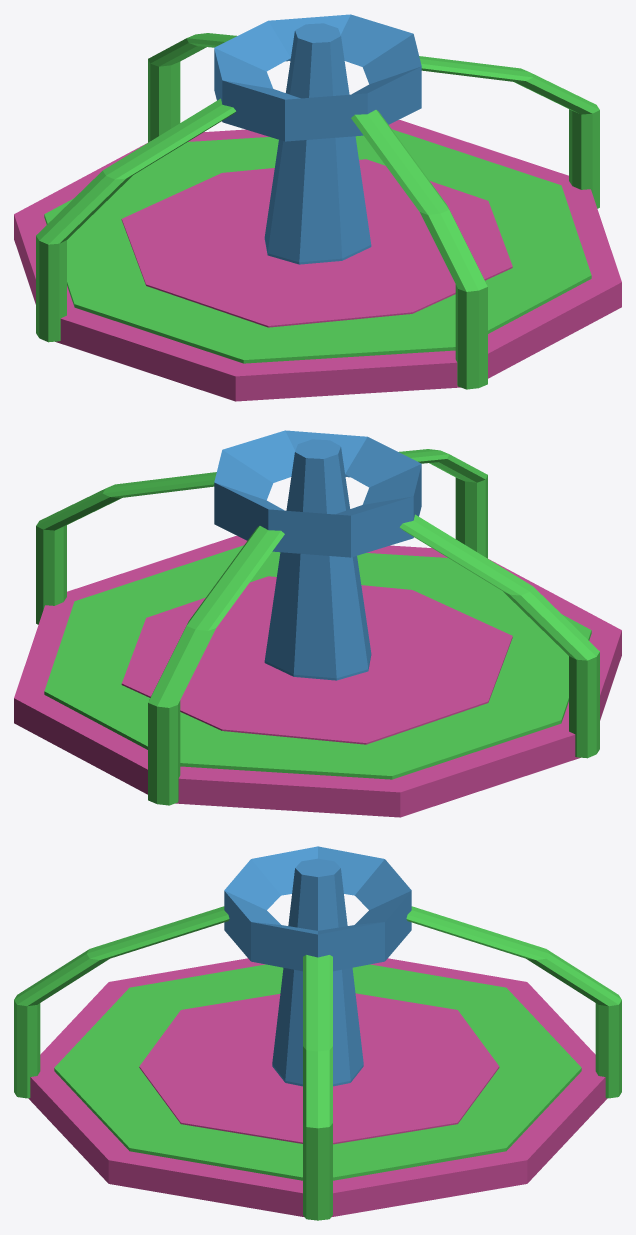
Rendered from Roundabout.fbx.
3 views of the same model, one above another, from view 1: azimuth 30°, elevation 25°; view 2: azimuth 150°, elevation 25°; view 3: azimuth 270°, elevation 25° (orthographic). The views are drawn at different scales.
Parts seen in each view (by area): view 1: Cube.003, Cube; view 2: Cube.003, Cube; view 3: Cube.003, Cube.
Boxes of the visible parts, x1,y1,x2,y2 form: Cube.003: (14,14,621,401); Cube: (264,23,371,264); Cube.003: (14,430,621,817); Cube: (264,439,371,680); Cube.003: (14,846,621,1220); Cube: (272,858,363,1086).
Bounding box in the file's own units: 836 × 403 × 836.
